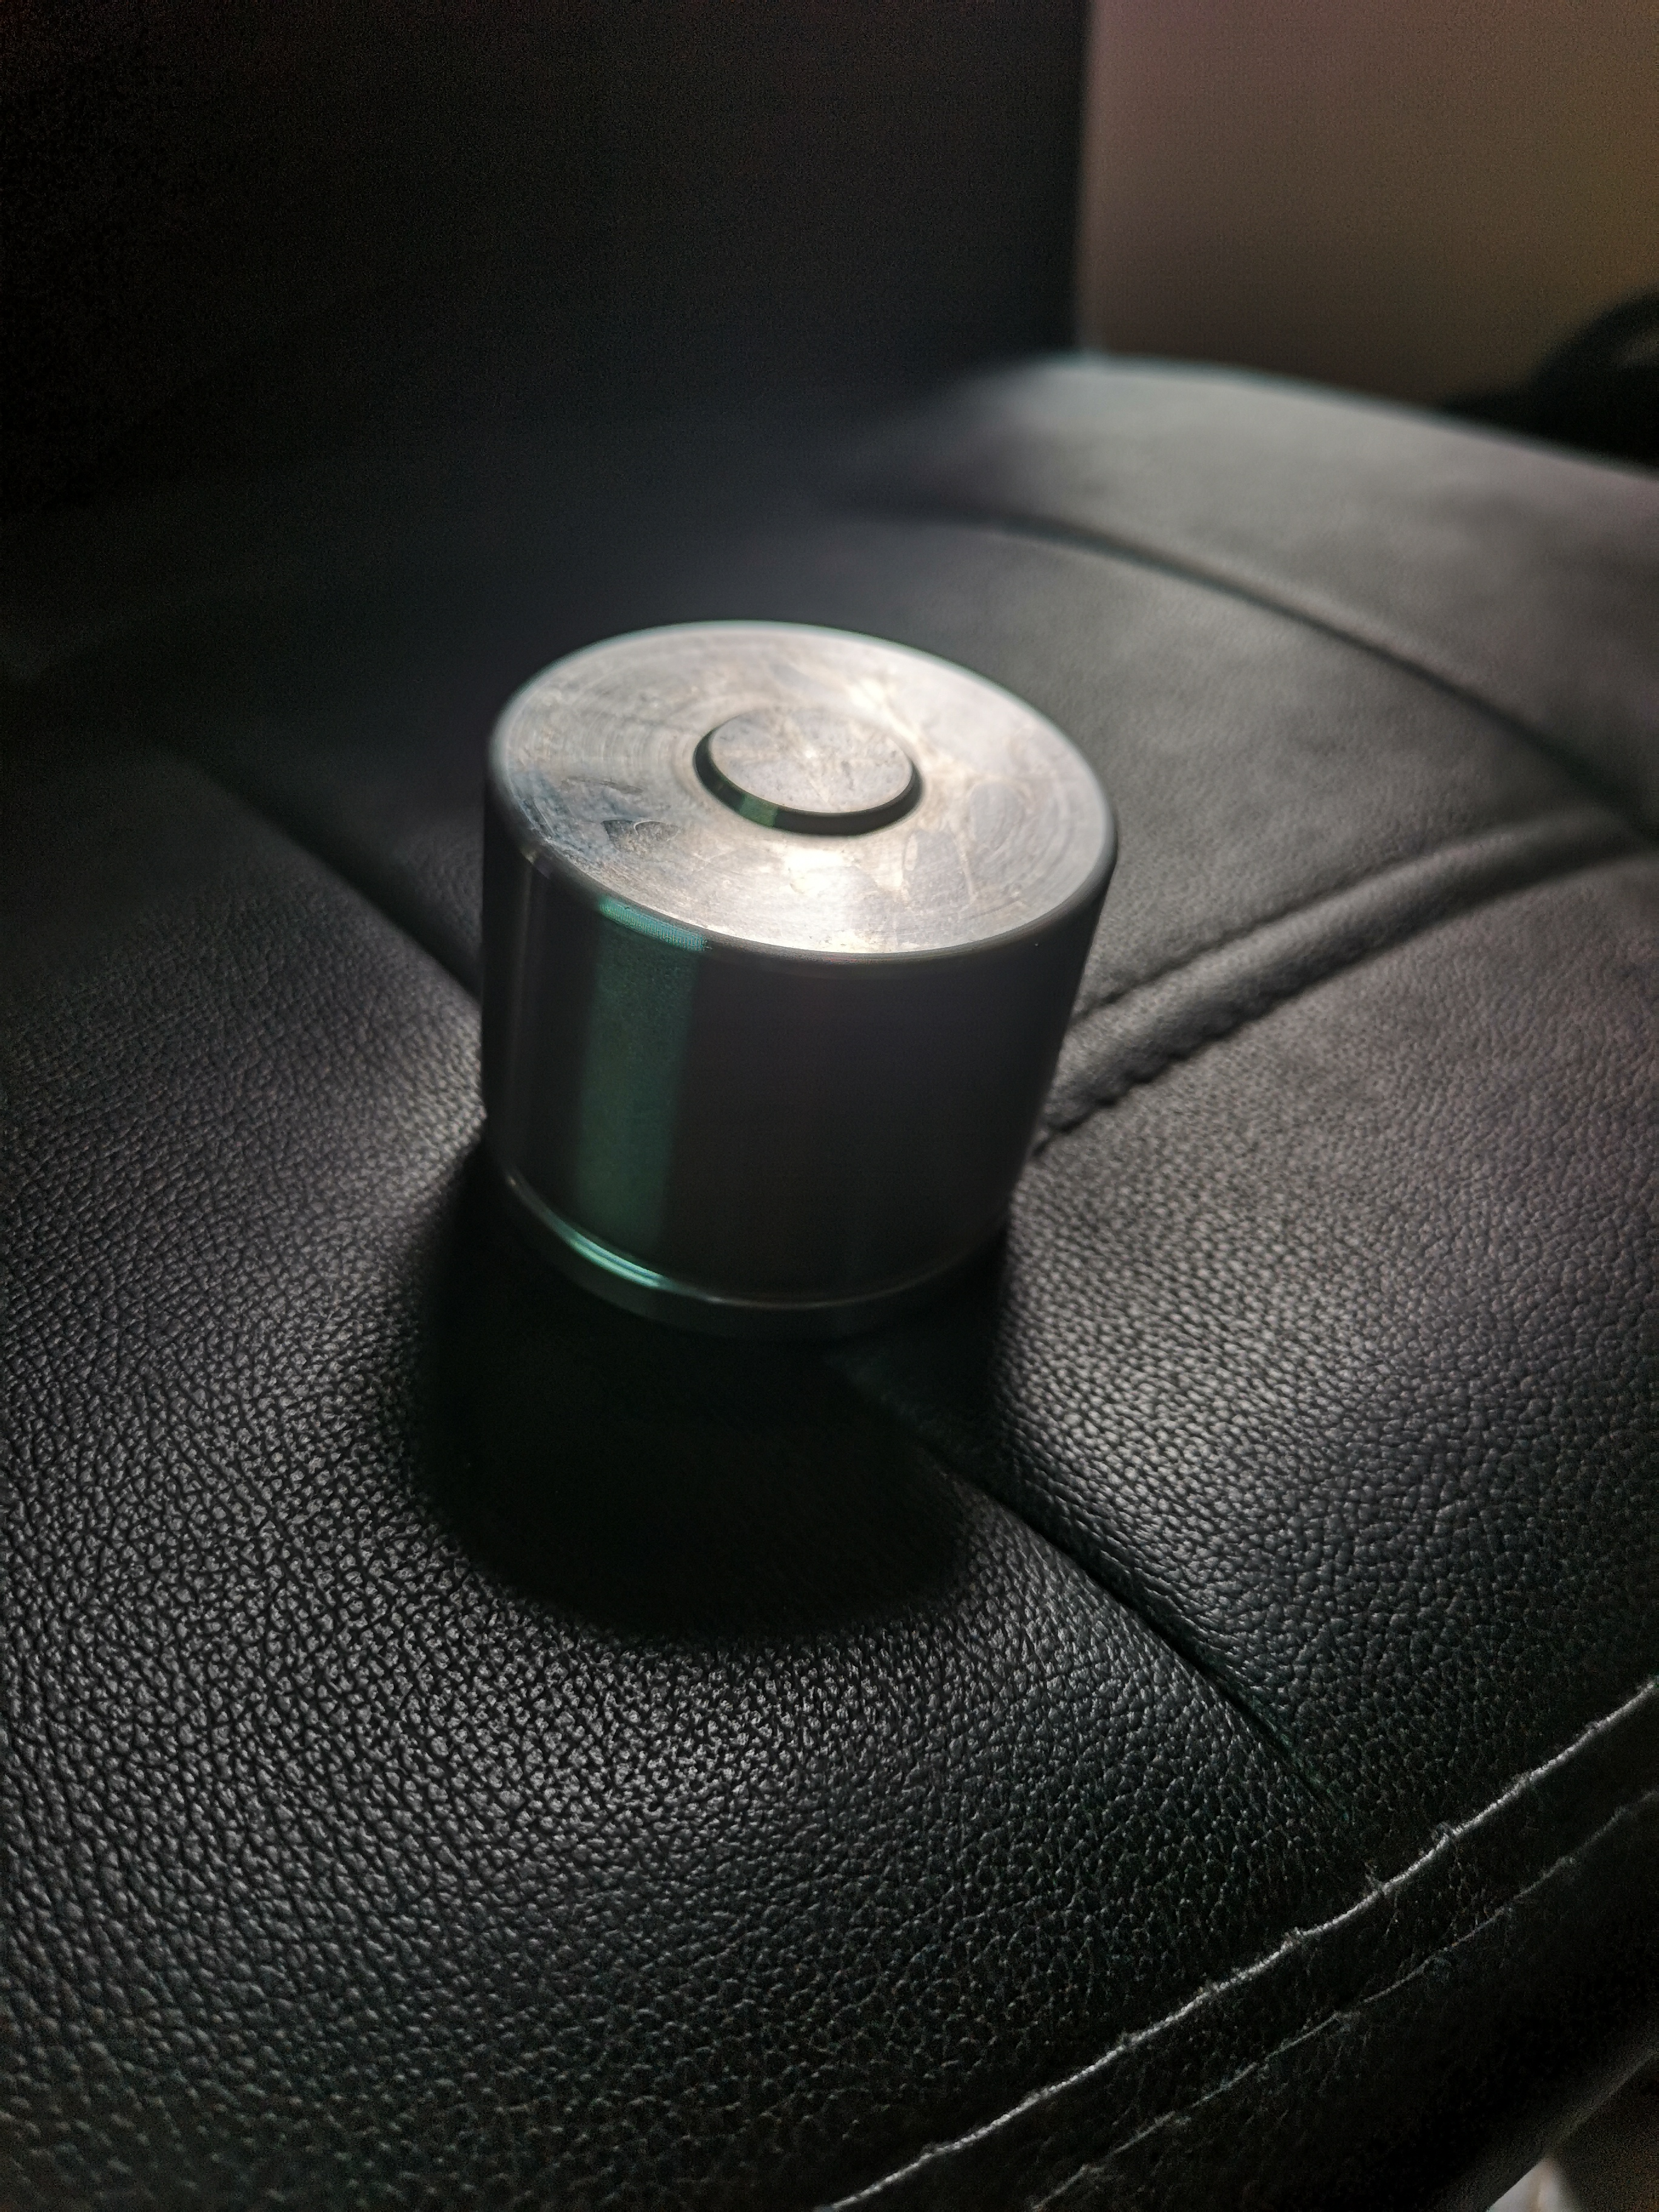ลูกสูบดิสเบรค: (399, 610, 1138, 1364)
